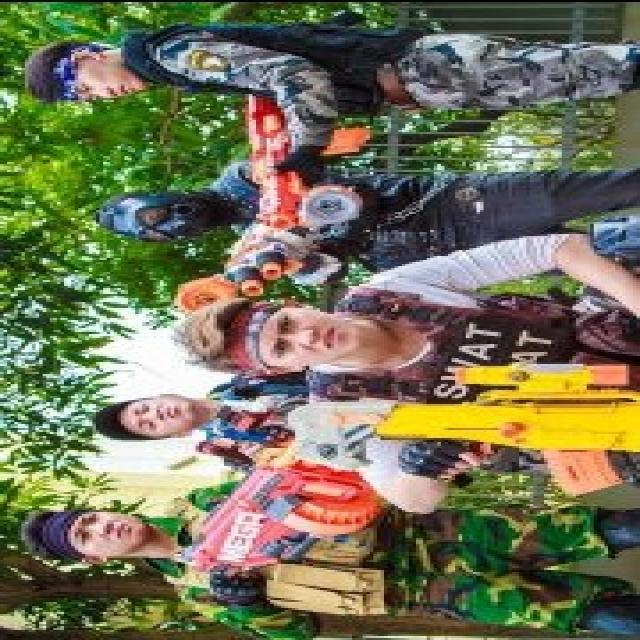Nerf gun: (276, 357, 634, 487), (156, 410, 377, 594), (165, 183, 354, 317), (213, 87, 370, 237), (187, 374, 297, 462)
